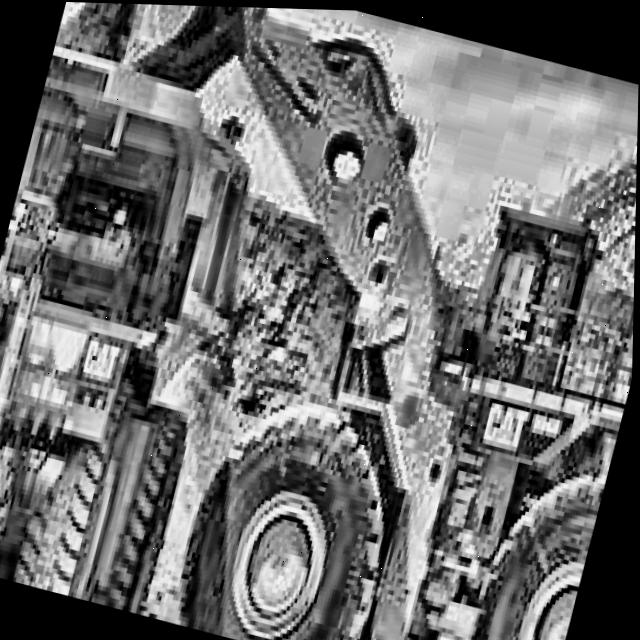buldozerpayloadergrader: (0, 0, 640, 640)
dump_truck: (0, 17, 279, 616)
